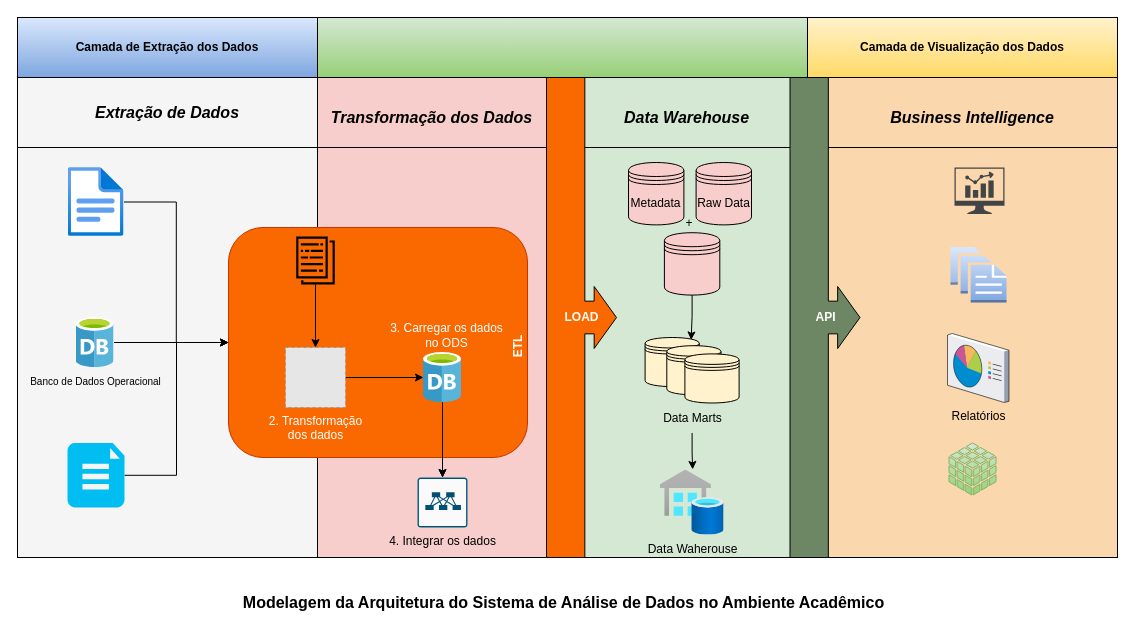
Image size: 1135x635. Some labels were removed from this diagram. Grey dashed boxes stand in for pictures. The centre of each missing label's shape, as x and y in pixels:
"1. Extração dos dados" goes at point (315, 260).
"Camada de Integração dos Dados" goes at point (562, 47).
"Dashboards" goes at point (979, 190).
"Documentos" goes at point (978, 274).
"Ferramentas OLAP" goes at point (972, 468).
"Fonte de dados Externas (APIs, Base de dados Externas)" goes at point (96, 201).
"Fontes de dados Internas (CSV, XLSX)" goes at point (95, 474).
"Summary Data" goes at point (691, 263).
